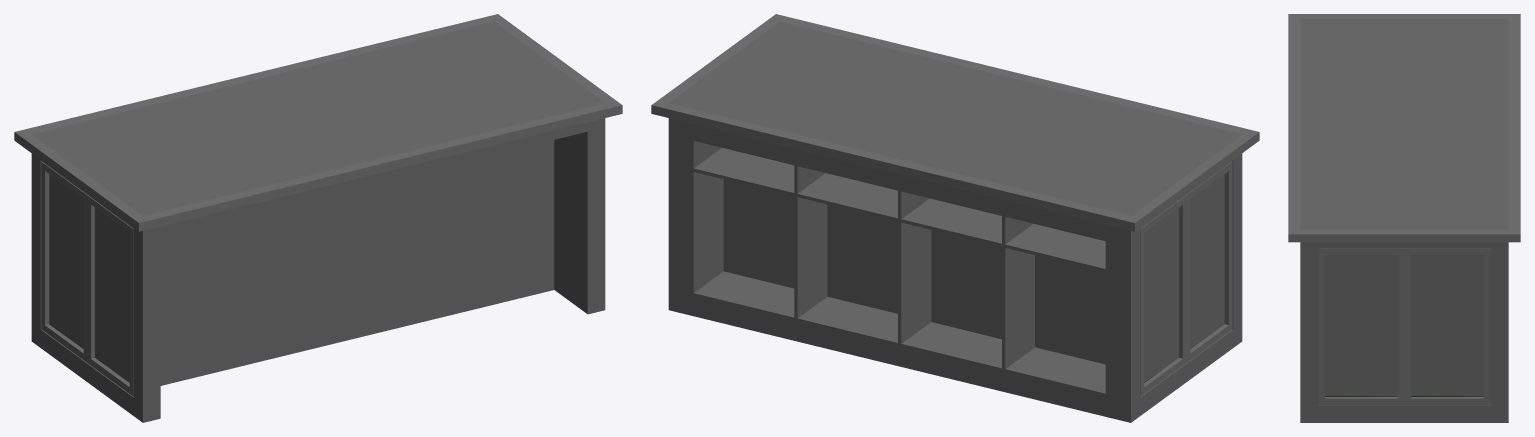
The model's file is KitchenCounter.fbx.
3 renders of one model, left to right at view 1: azimuth 30°, elevation 25°; view 2: azimuth 150°, elevation 25°; view 3: azimuth 270°, elevation 25°, orthographic. The views are drawn at different scales.
Visible parts, largest first — view 1: polySurface145; view 2: polySurface145; view 3: polySurface145.
Boxes of the visible parts, left/top/right/bottom form: polySurface145: left=14, top=14, right=622, bottom=422; polySurface145: left=651, top=14, right=1259, bottom=422; polySurface145: left=1288, top=14, right=1520, bottom=422.
Bounding box in the file's own units: 2.32 × 0.9514 × 1.04.
